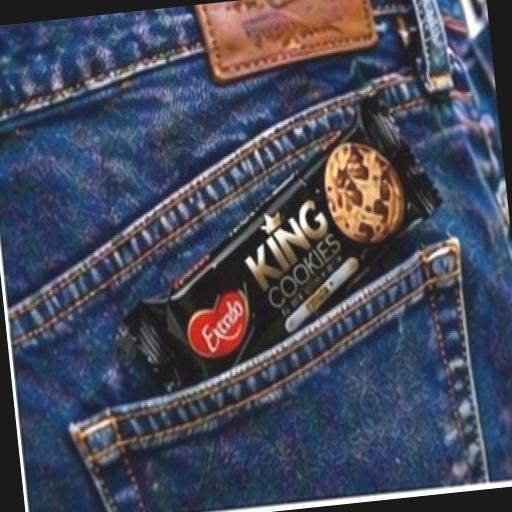king_cooking: (91, 60, 481, 413)
